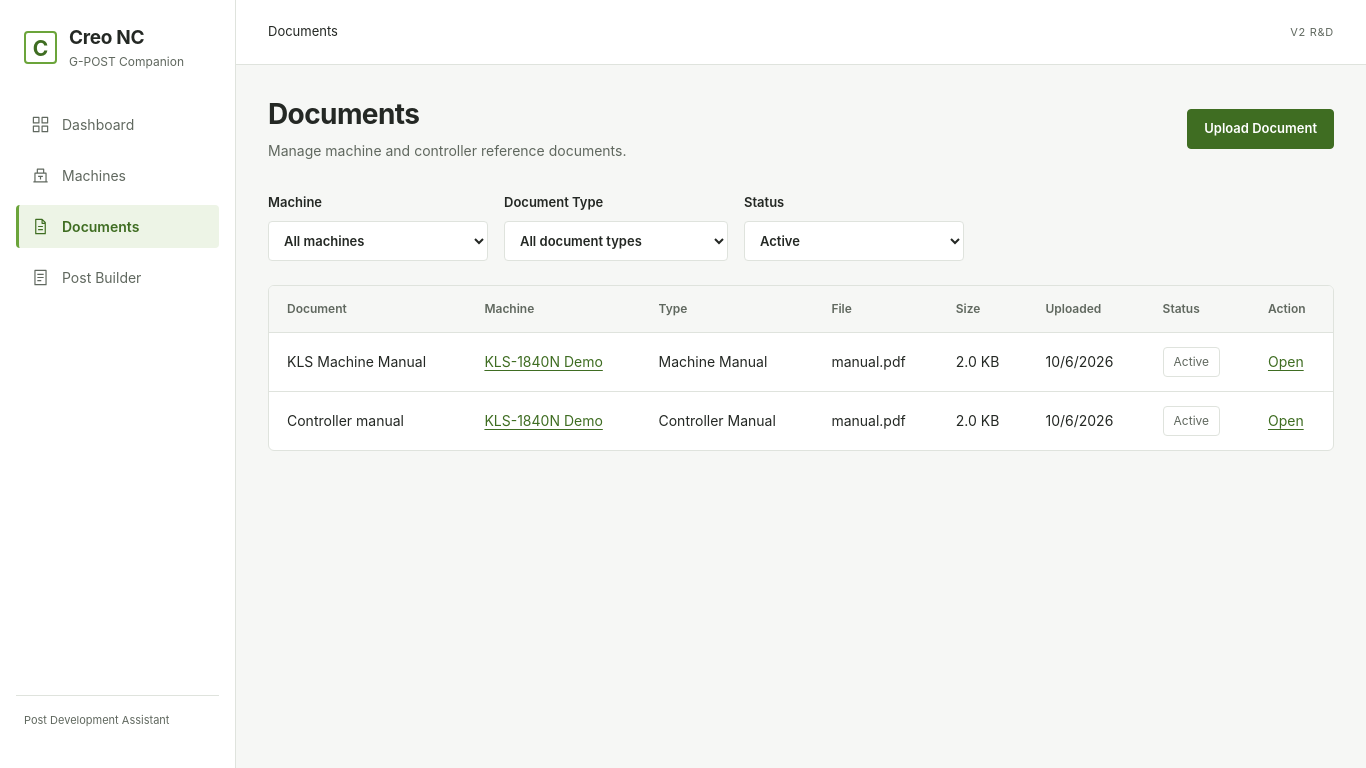
Scenario: Document management › applies global Machine and Document Type filters
Expected: the text "KLS Machine Manual" is shown, [269,332,466,391]
Select "KLS-1840N Demo" in the dropdown labelled "Machine" at (378, 240), box [268,220,488,260]
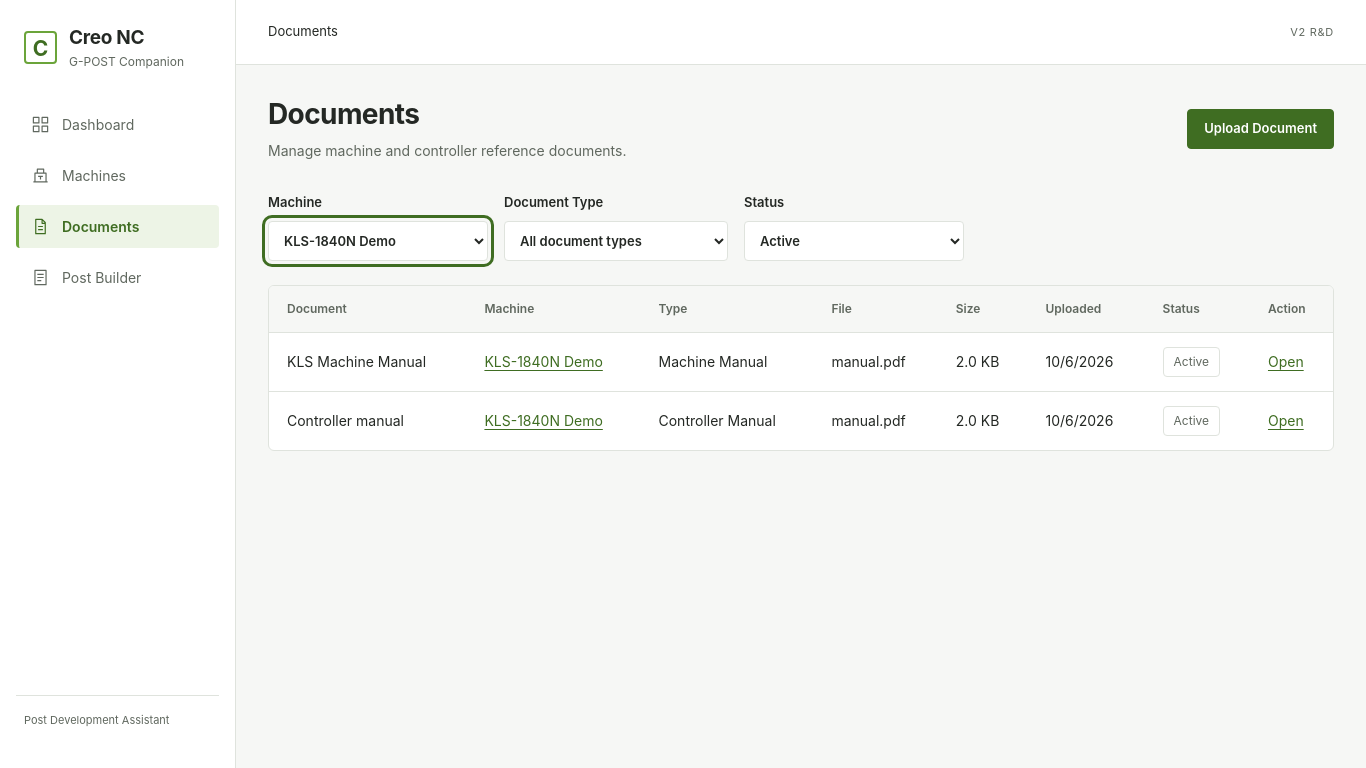
Select "Controller Manual" in the dropdown labelled "Document Type" at (616, 240), box [504,220,728,260]
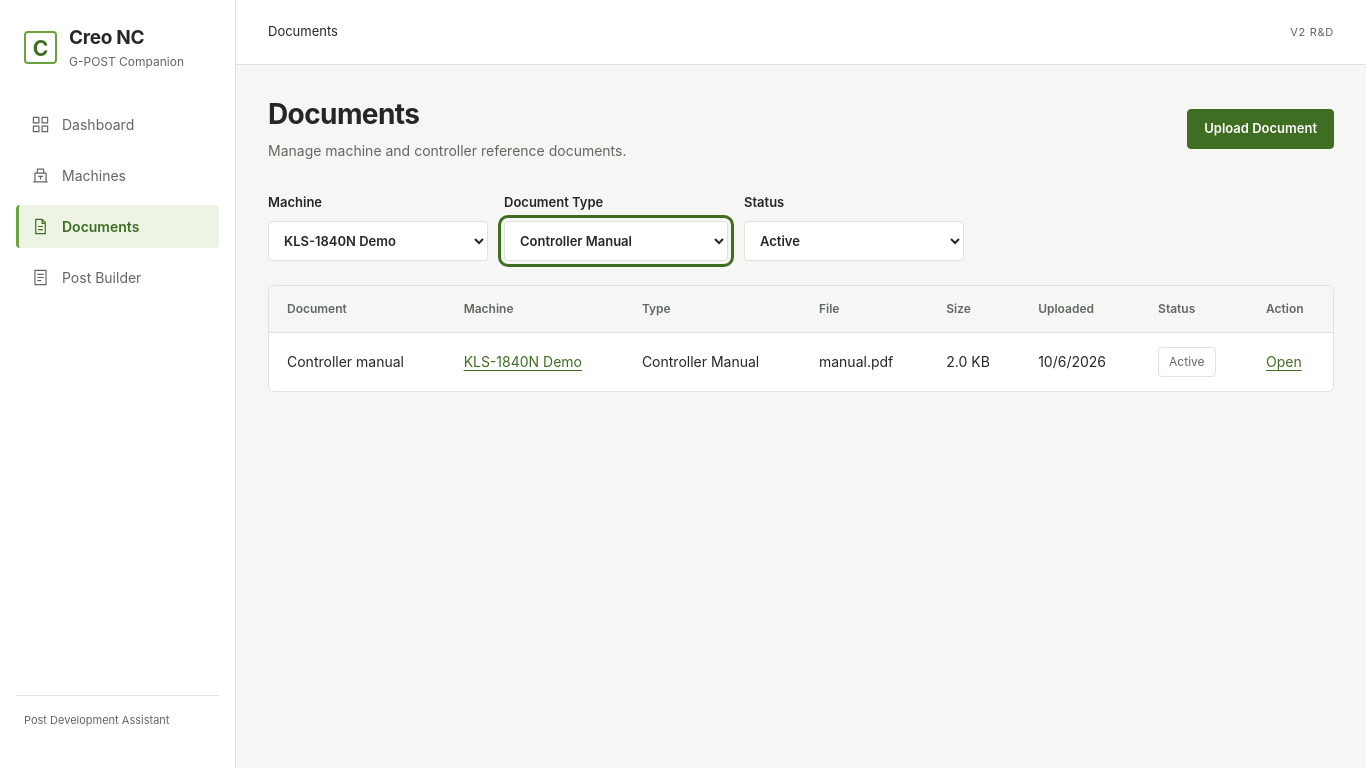
Expected: the text "Controller manual" is shown, [269,332,446,390]
Expected: the text "KLS Machine Manual" is gone
